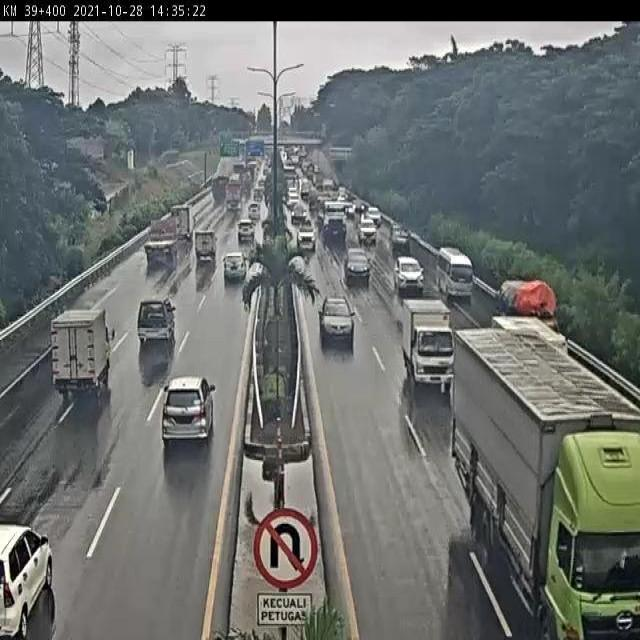big truck: (445, 336, 640, 640)
car: (0, 512, 60, 640), (161, 369, 220, 447), (131, 295, 185, 352), (313, 290, 358, 350), (391, 256, 431, 297), (342, 246, 375, 290), (219, 249, 250, 283), (193, 228, 222, 261), (291, 230, 323, 258), (389, 224, 416, 255), (353, 215, 378, 248), (236, 219, 260, 248)
small bus: (435, 240, 478, 303)
small truck: (46, 304, 120, 405), (402, 298, 453, 398), (493, 280, 562, 331), (499, 314, 570, 362), (143, 209, 181, 271), (162, 201, 202, 243)
